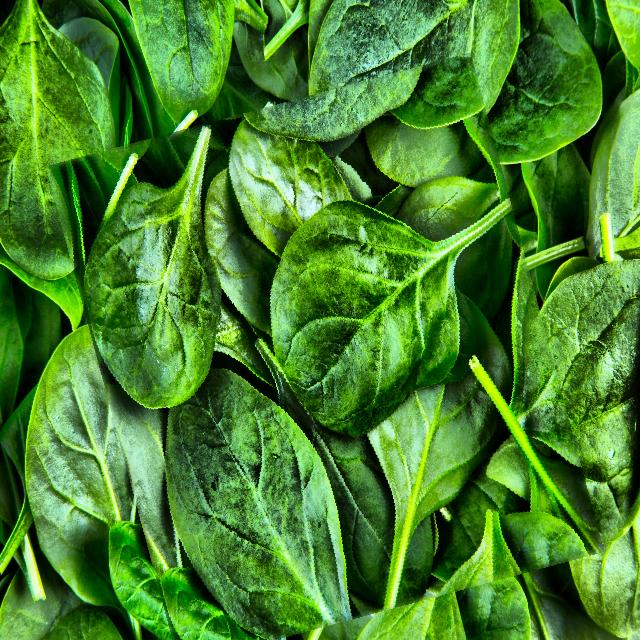spinach: (76, 76, 575, 640)
